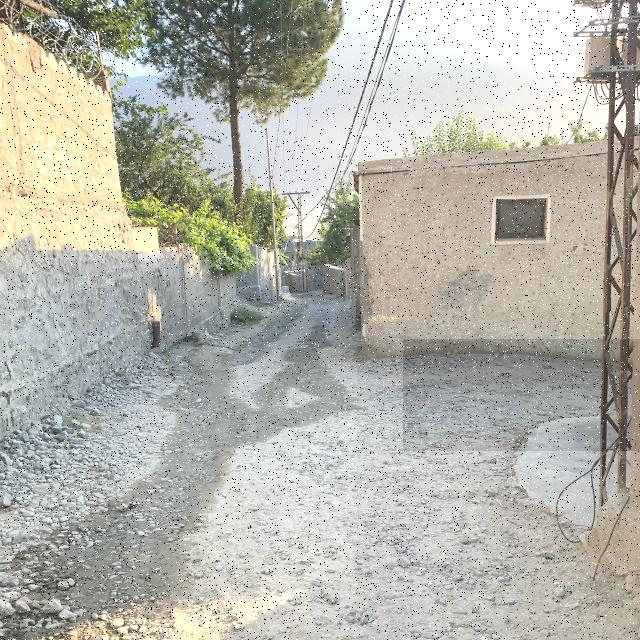right: (403, 339, 640, 452)
straight: (127, 348, 357, 632)
